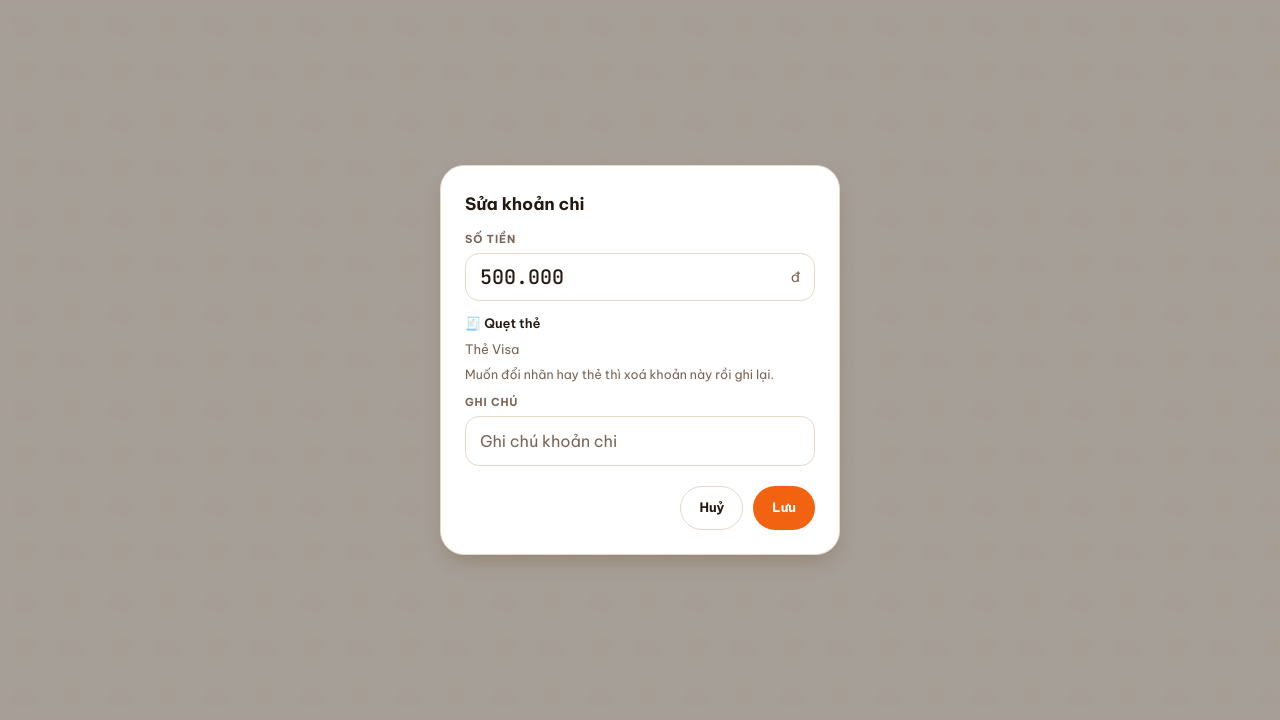
Test case: EditExpenseModal with cards › blocks lowering a swipe by more than the card still owes
Replace the text in the field labelled "Số tiền" with "100000" at (631, 277), box x1=480 y1=254 x2=783 y2=300
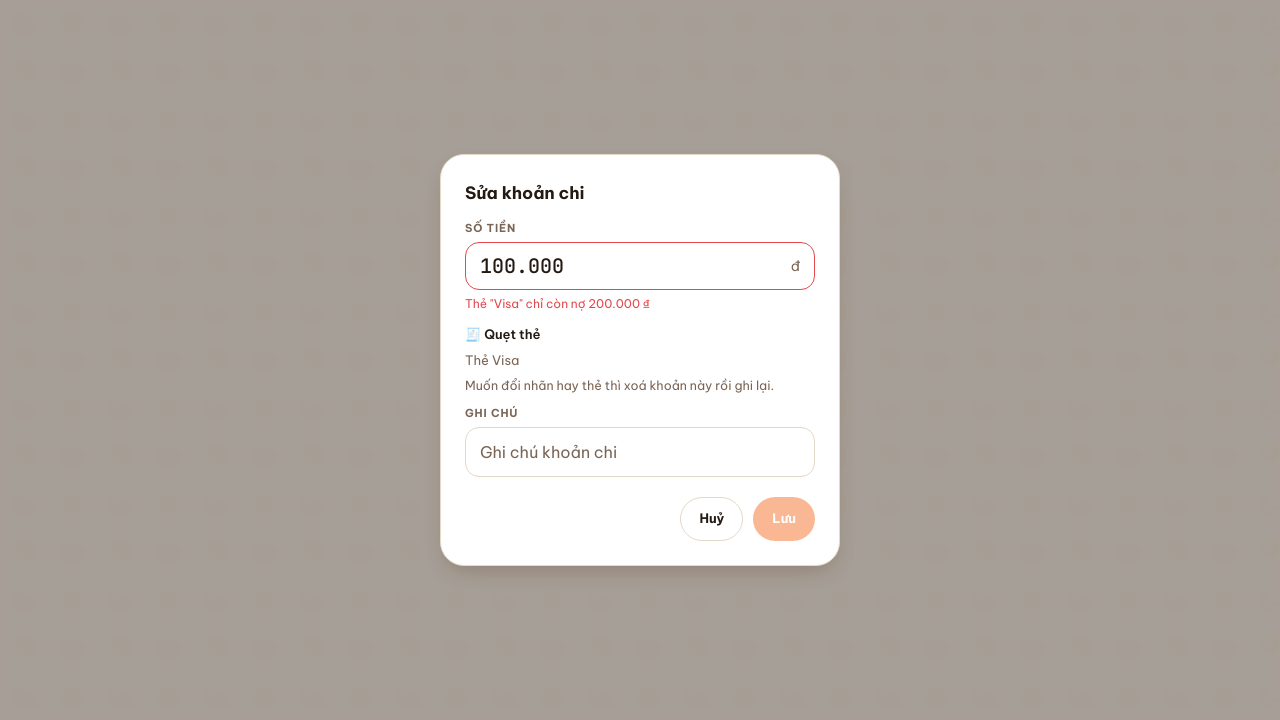
Result: the text "Thẻ \"Visa\" chỉ còn nợ 200.000 ₫" is shown at x1=465 y1=296 x2=650 y2=311
Result: the button "Lưu" is disabled at x1=753 y1=497 x2=815 y2=541
